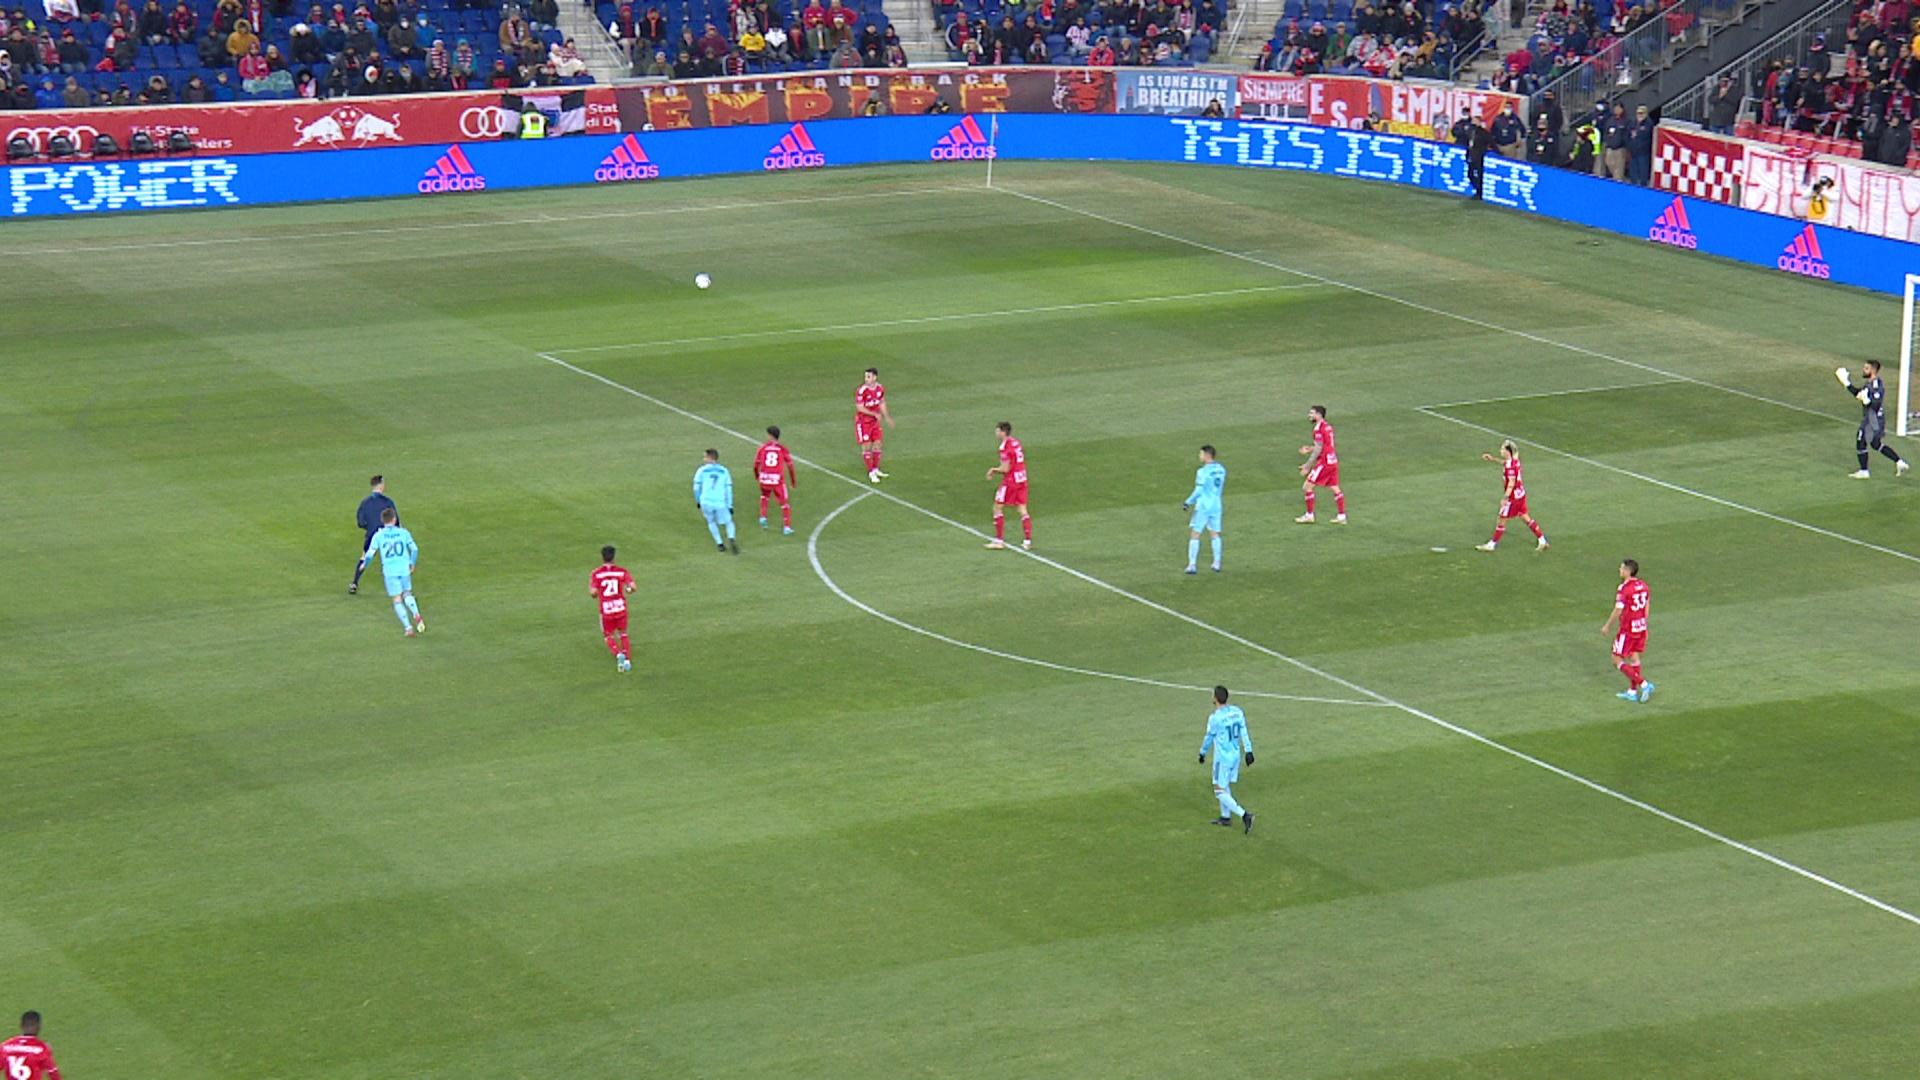football: (695, 272, 712, 290)
